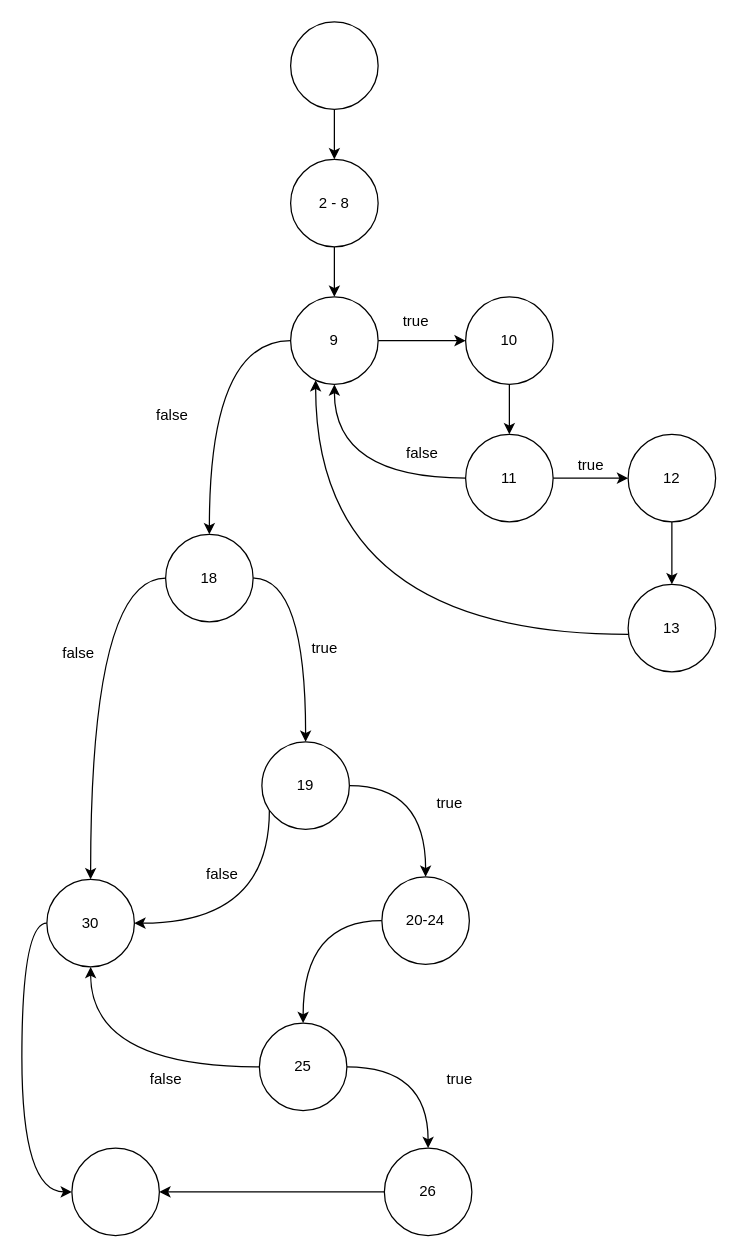
The diagram is 738 pixels wide and 1258 high, and some of its shapes have lost their labels. Here are the shapes that lost their labels. From the top down, the box of each, then its label:
(289, 21, 378, 109): ni
(71, 1147, 159, 1236): nf
